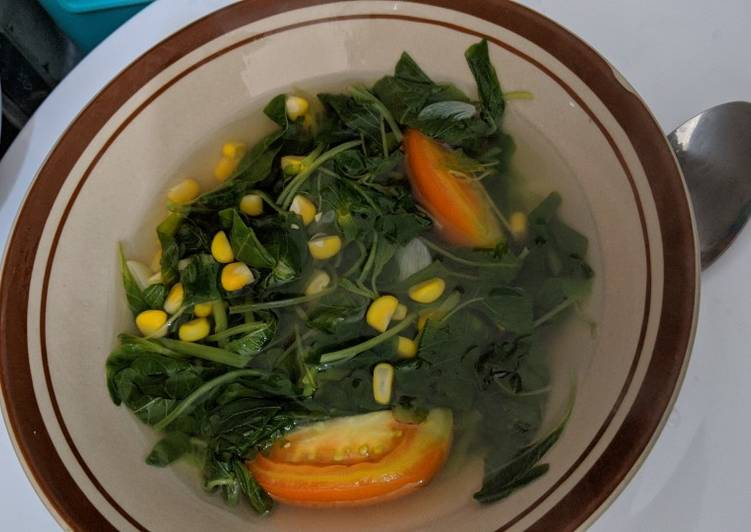Sayur Bayam: (70, 85, 619, 511)
